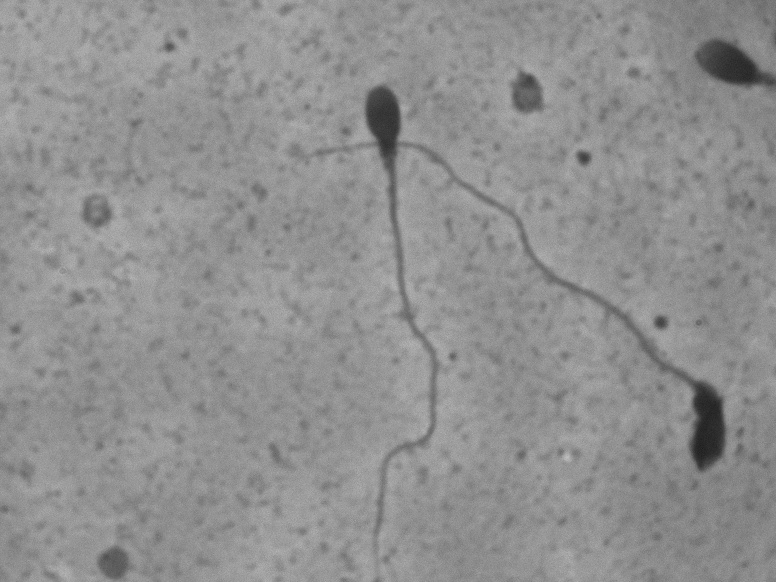Abnormal: (517, 205, 770, 476), (352, 70, 451, 574)
